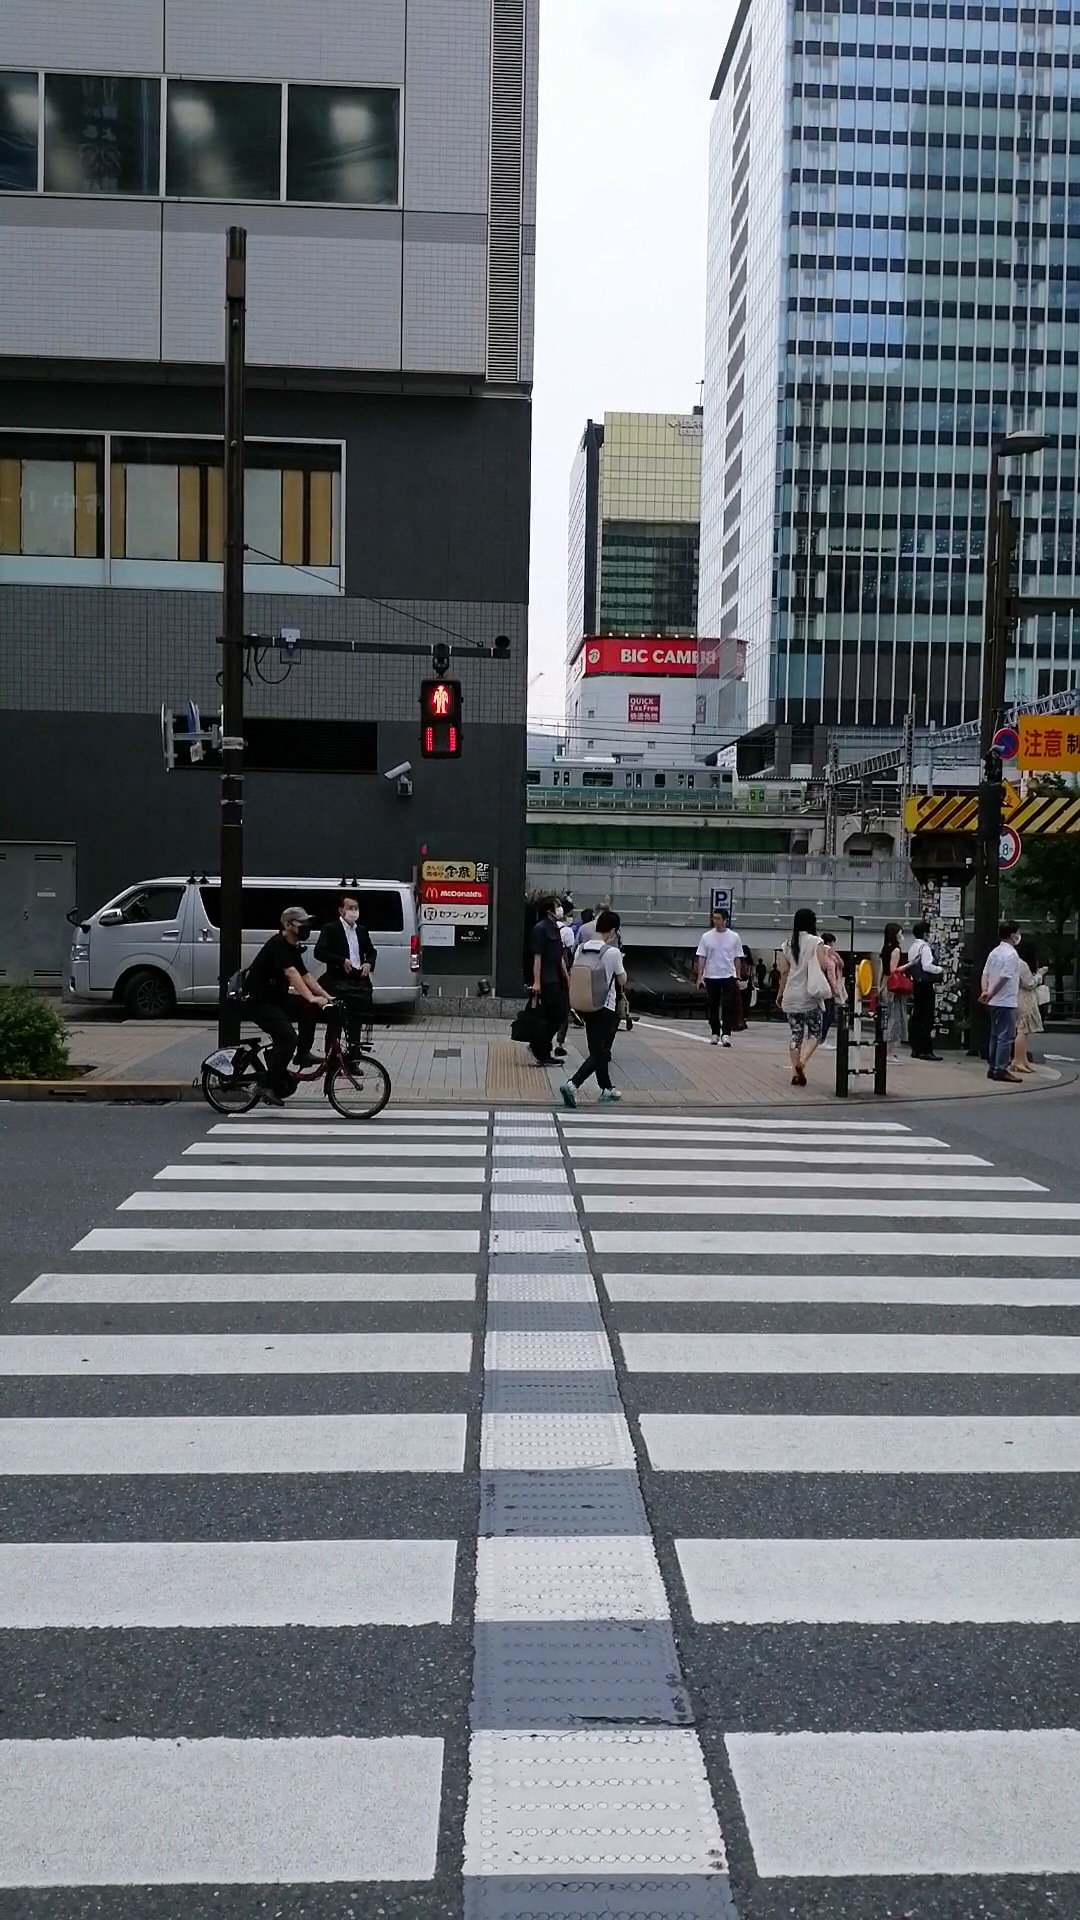red: (418, 678, 462, 760)
